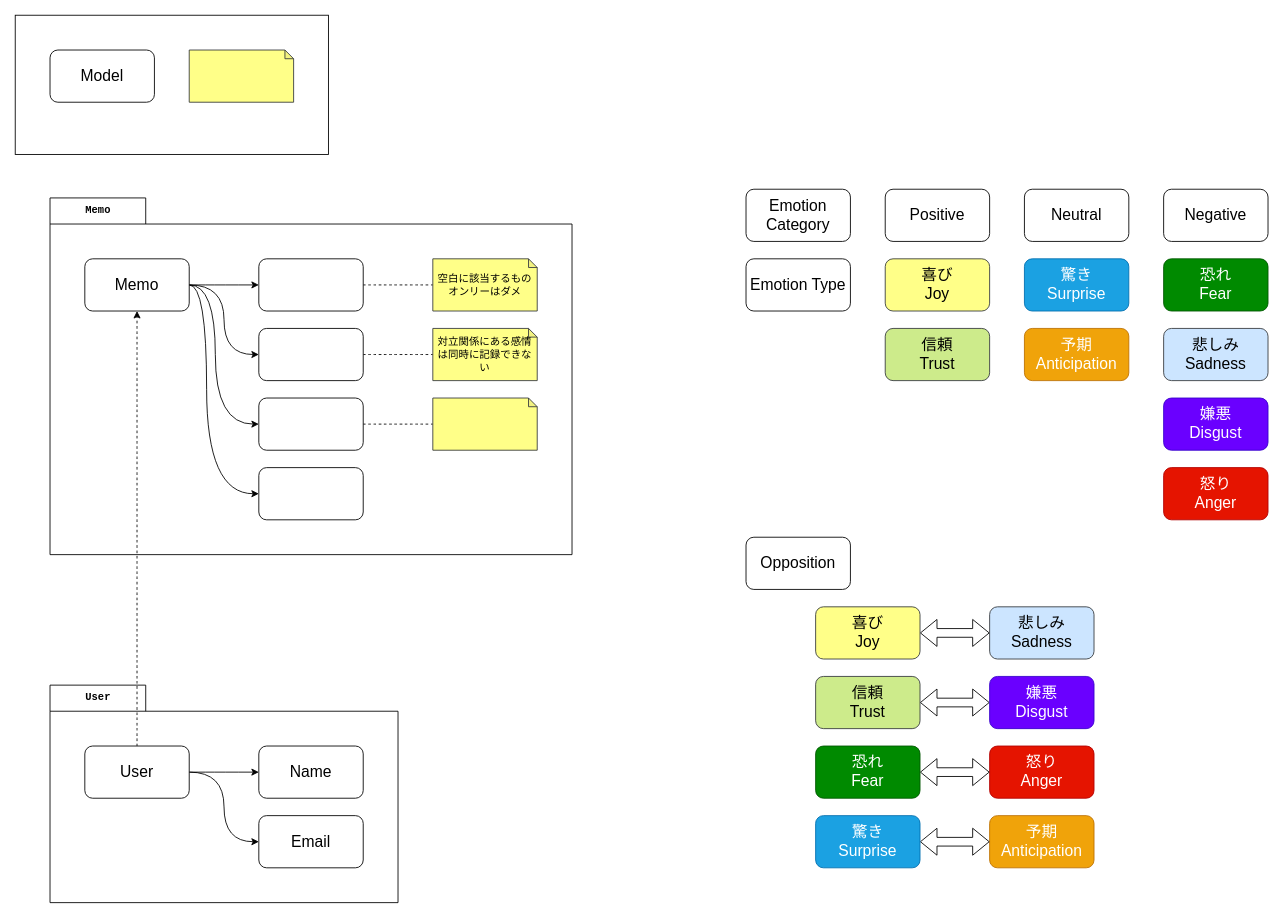
Image size: 1283x918. Some labels were removed from this diagram. Each missing label, with the box of its shape:
Emotion: (258, 328, 363, 381)
Happening Date: (258, 397, 363, 450)
Memory: (258, 258, 363, 311)
Rule: (188, 49, 294, 102)
Writing Date: (258, 467, 363, 520)
書いている日より後はダメ: (432, 397, 537, 450)
